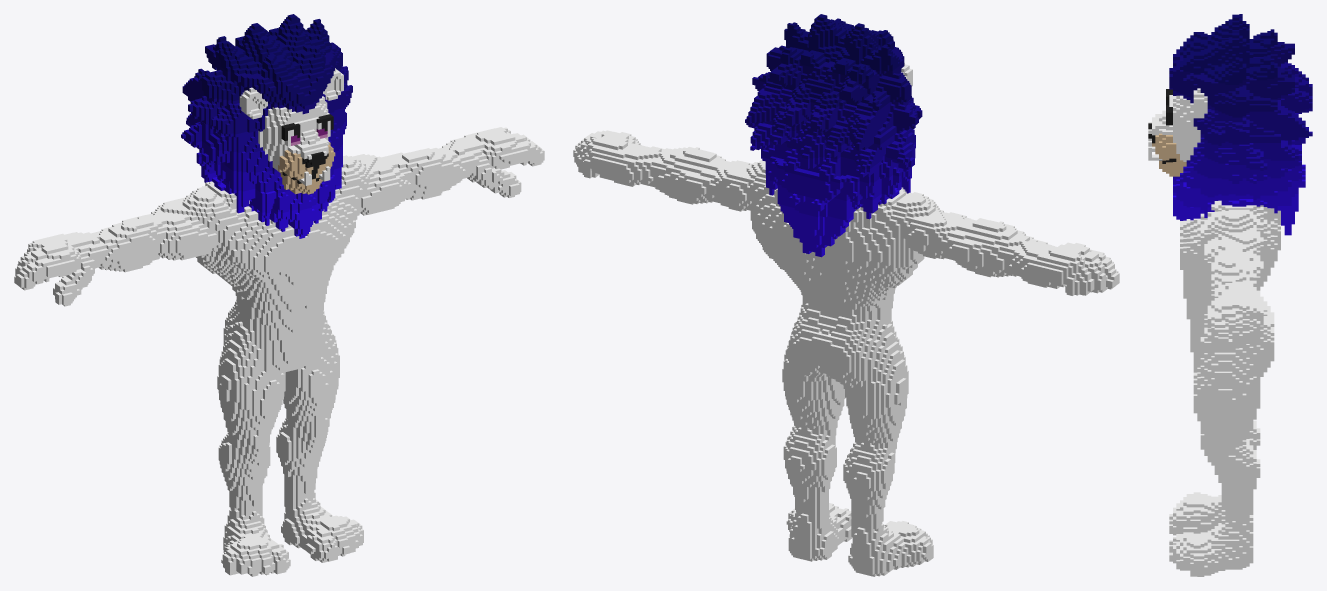
File: 514-DZMUrYKo.glb
The picture shows the model from 3 angles, left to right: view 1: azimuth 30°, elevation 25°; view 2: azimuth 150°, elevation 25°; view 3: azimuth 270°, elevation 25°; orthographic projection. The views are drawn at different scales.
Visible parts, largest first — view 1: ork; view 2: ork; view 3: ork.
Part boxes in pixels (x1=…): ork: x1=14, y1=14, x2=544, y2=576; ork: x1=573, y1=14, x2=1119, y2=576; ork: x1=1148, y1=14, x2=1312, y2=576.
Bounding box in the file's own units: 17.2 × 16.5 × 4.7.
4 materials, 4 textured.
